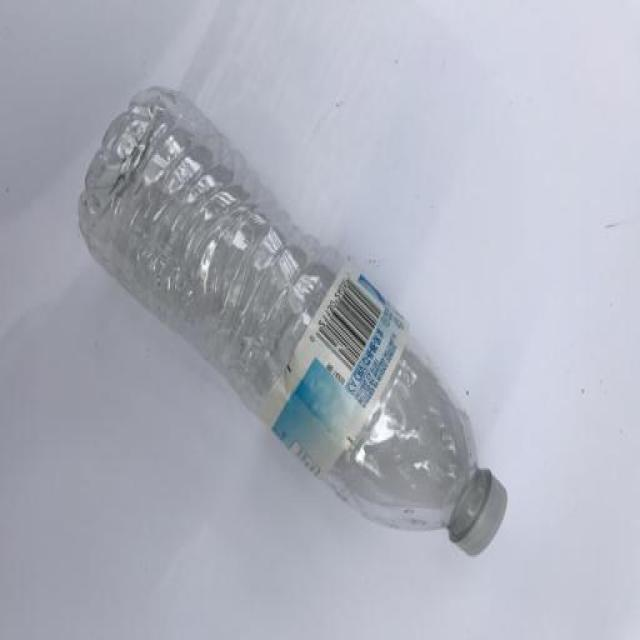plastic: (74, 85, 511, 560)
